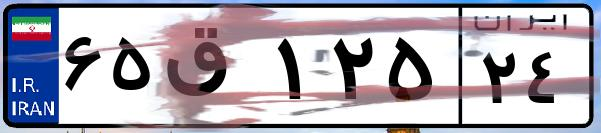1: (270, 28, 330, 110)
2: (330, 28, 385, 110), (475, 38, 525, 113)
4: (525, 38, 570, 115)
5: (385, 28, 445, 110), (110, 28, 158, 98)
6: (57, 26, 110, 100)
ق: (158, 20, 270, 120)
